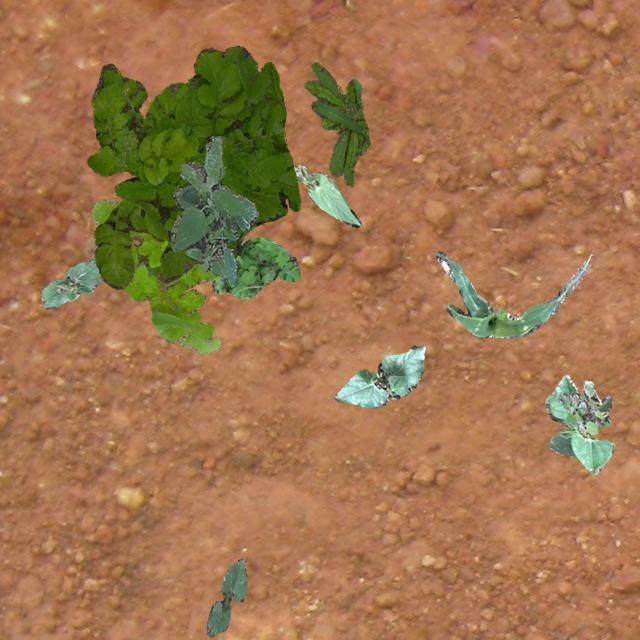crop: (434, 250, 588, 338), (544, 374, 614, 474), (334, 344, 424, 406), (292, 164, 360, 226), (206, 558, 247, 636), (40, 256, 100, 308)
weed: (86, 45, 300, 288), (90, 198, 220, 354), (170, 136, 258, 284), (304, 61, 369, 186), (208, 235, 300, 298), (558, 380, 612, 434)
